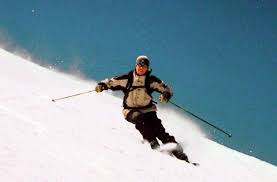skier: (51, 54, 235, 165)
